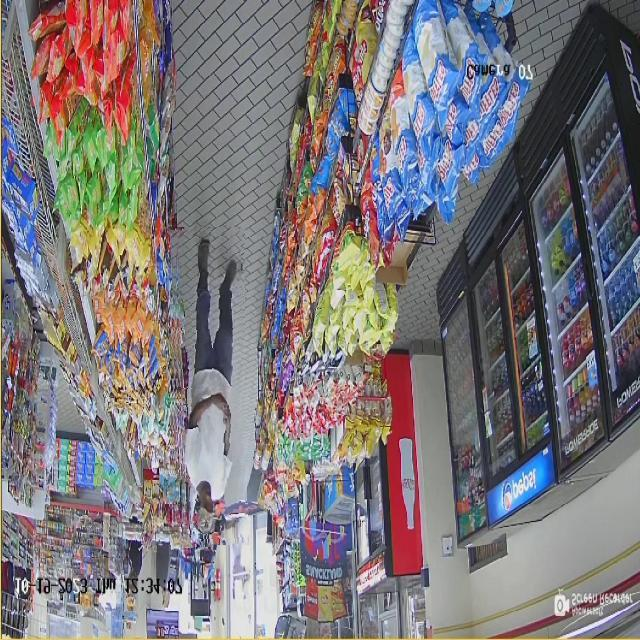Normal: (170, 227, 245, 547)
